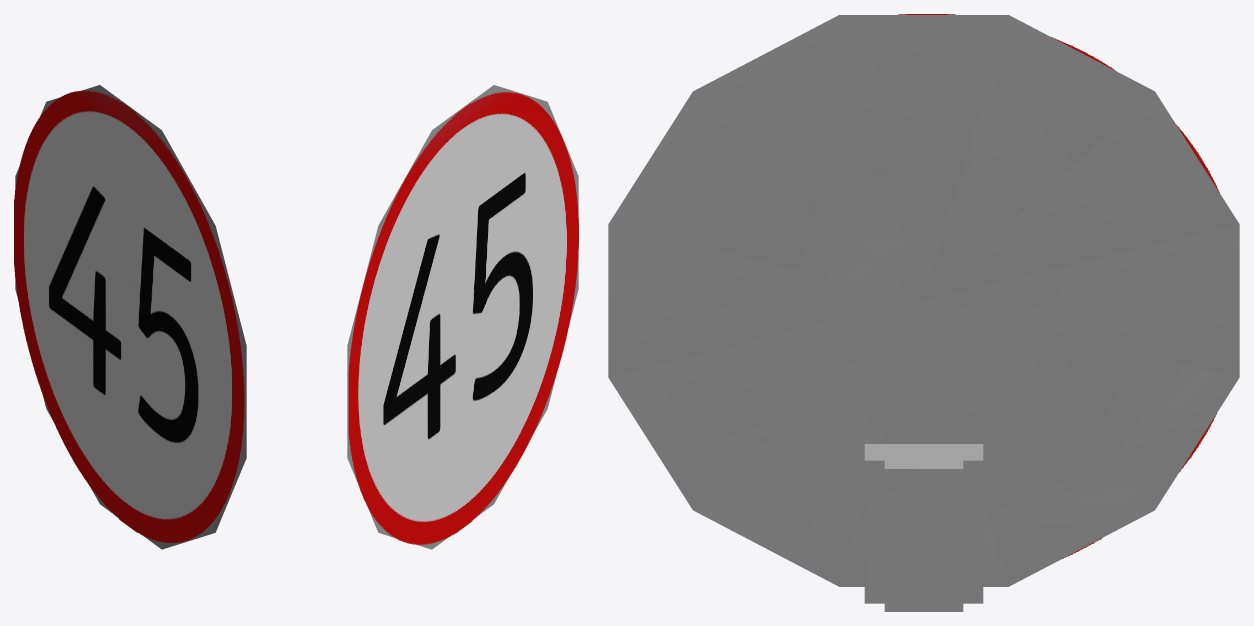
File: speed_45_small.obj
The picture shows the model from 3 angles, left to right: view 1: azimuth 30°, elevation 25°; view 2: azimuth 150°, elevation 25°; view 3: azimuth 270°, elevation 25°; orthographic projection. The views are drawn at different scales.
Visible parts, largest first — view 1: cube, circle; view 2: cube, circle; view 3: circle, cube.
Part boxes in pixels (left/top/right/bottom): cube: left=14, top=90, right=244, bottom=543; circle: left=15, top=85, right=246, bottom=549; cube: left=348, top=92, right=578, bottom=544; circle: left=347, top=85, right=578, bottom=549; circle: left=608, top=15, right=1239, bottom=586; cube: left=864, top=14, right=1219, bottom=611.
Size of the model in its own units: 0.0484 by 0.5 by 0.5.
Materials: 2 (2 with a texture image).
